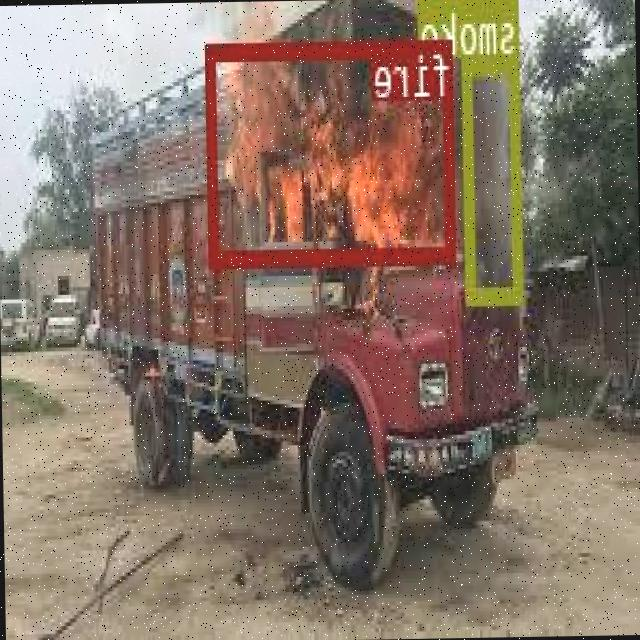fire: (208, 38, 458, 262)
smoke: (464, 54, 525, 300)
